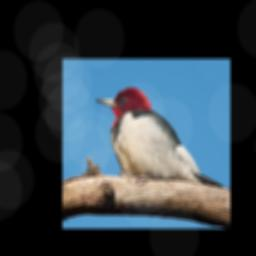Woodpecker: (96, 87, 225, 188)
